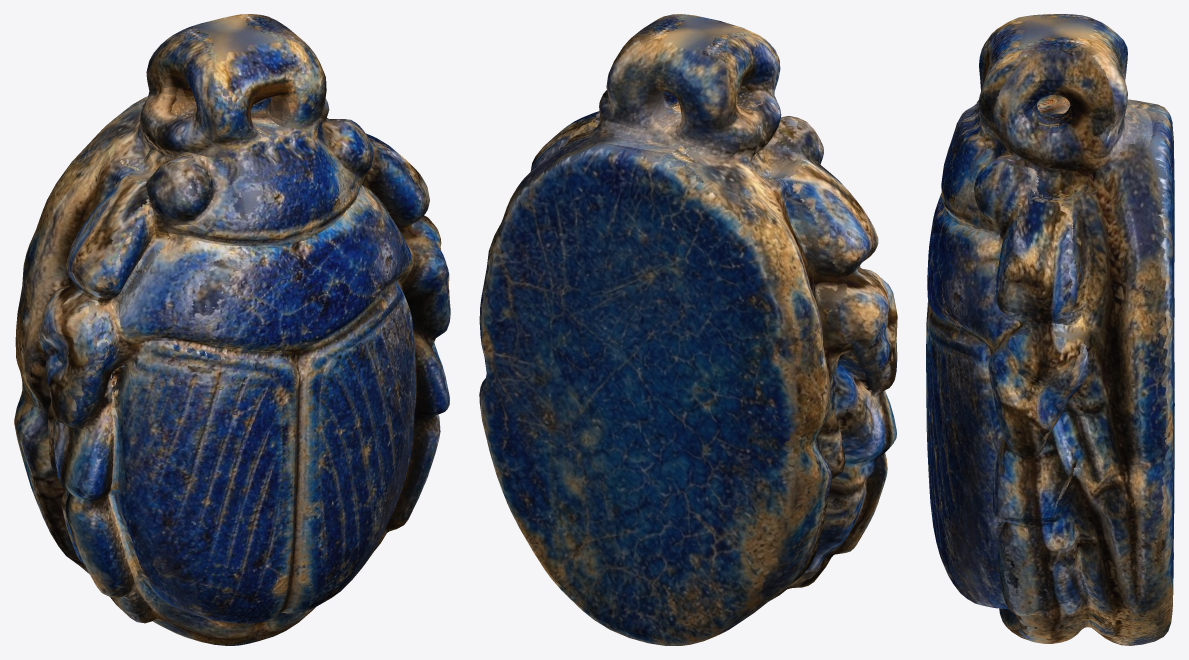
Rendered from amulet_07_scarab.glb.
3 views of the same model, side by side, from view 1: azimuth 30°, elevation 25°; view 2: azimuth 150°, elevation 25°; view 3: azimuth 270°, elevation 25° (orthographic). The views are drawn at different scales.
Size of the model in its own units: 0.681 by 1 by 0.3748.
1 material, 1 textured.
